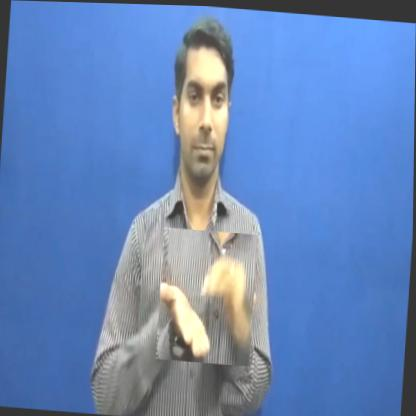ExcuseMe: (156, 226, 258, 365)
